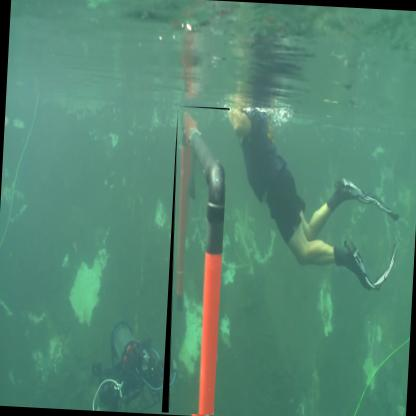gate: (162, 107, 232, 416)
